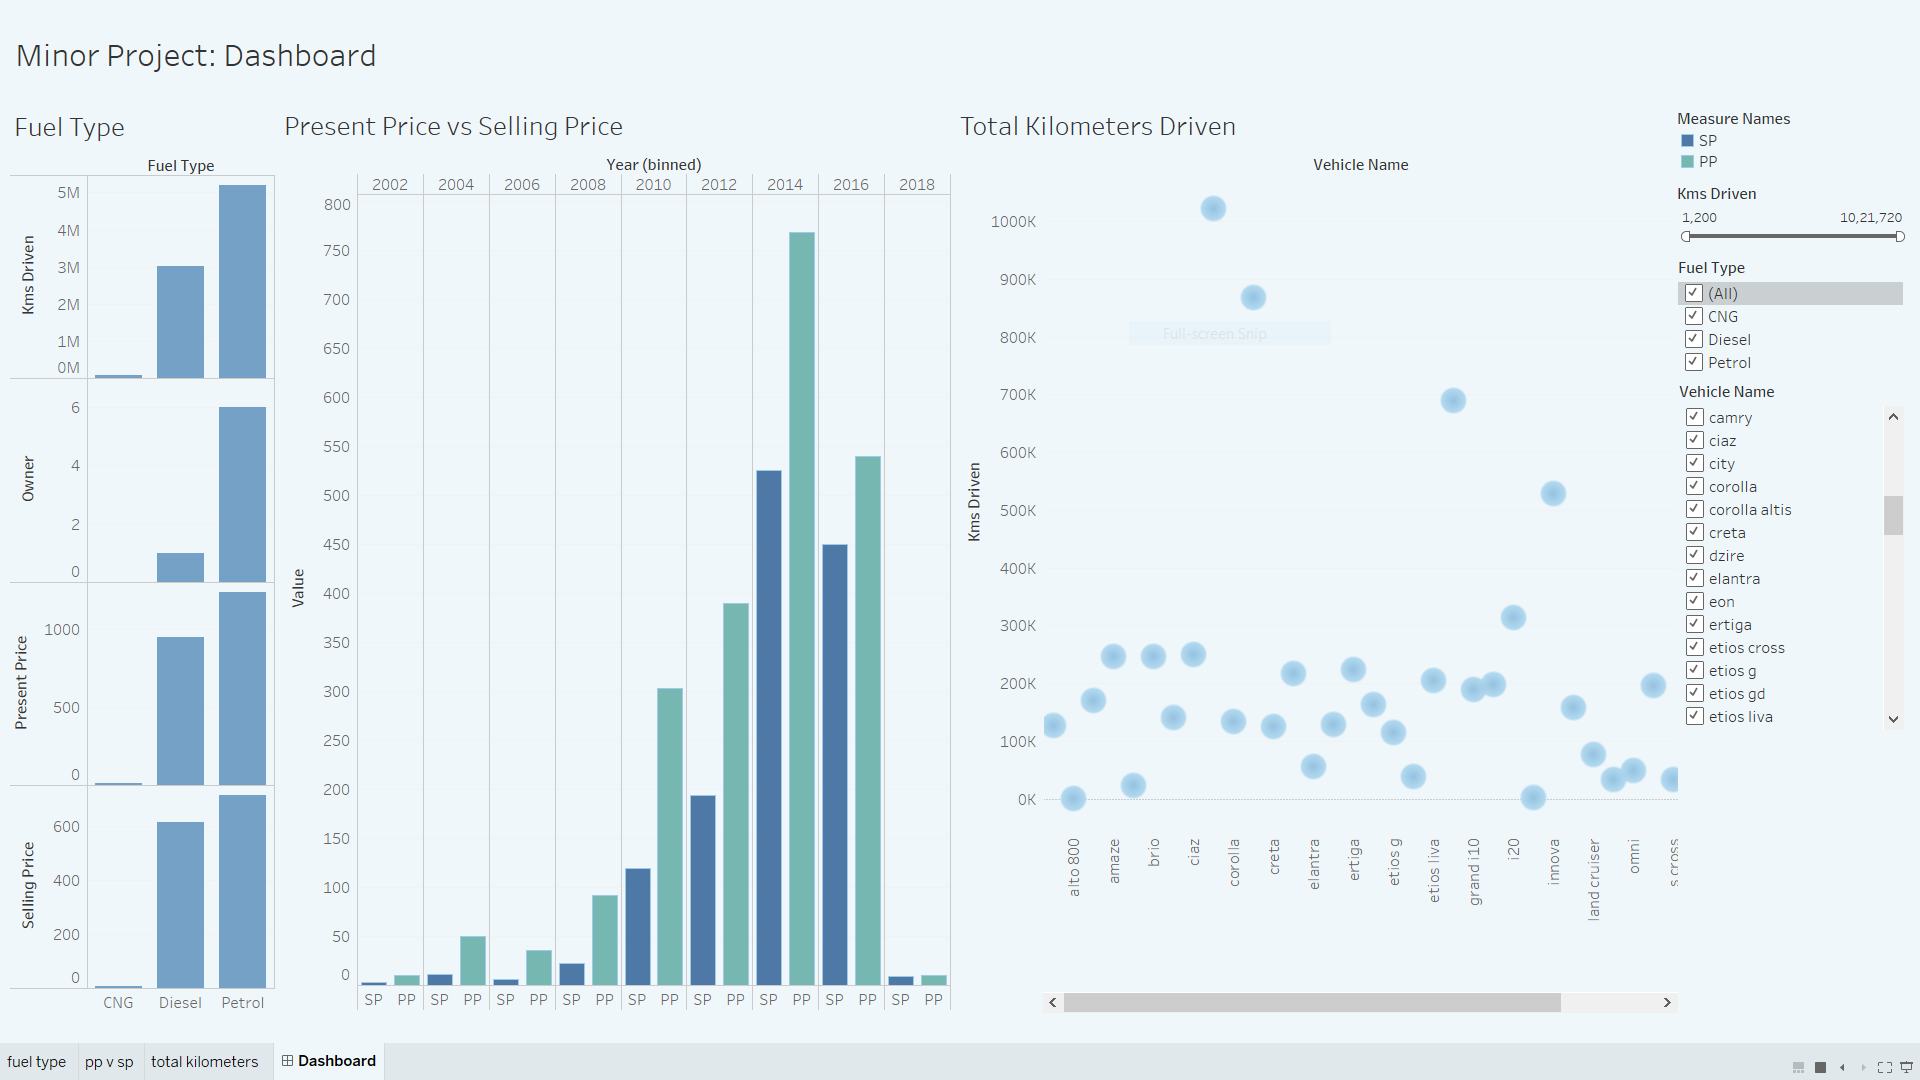

The dashboard page shown, as its layout file describes it:
{"tool":"tableau","page":{"name":"Dashboard","canvas":[1920,1000],"ordinal":0},"visuals":[{"type":"worksheet","box":[0,0,1920,1000]},{"type":"worksheet","param":"vert","box":[8,8,1904,984]},{"type":"worksheet","box":[8,8,1904,50]},{"type":"worksheet","param":"vert","box":[8,58,1904,934]},{"type":"worksheet","param":"vert","box":[8,58,1904,934]},{"type":"worksheet","param":"vert","box":[8,58,1904,934]},{"type":"worksheet","box":[8,58,1904,934]},{"type":"worksheet","title":"pp v sp","mark":"Automatic","cols":["Year (bin)"],"box":[280,83,671,907]},{"type":"worksheet","title":"total kilometers","mark":"Heatmap","rows":["Kms_Driven"],"cols":["Car_Name"],"box":[956,83,722,909]},{"type":"worksheet","title":"fuel type","mark":"Automatic","rows":["Kms_Driven","Owner","Present_Price","Selling_Price"],"cols":["Fuel_Type"],"box":[10,84,265,909]},{"type":"worksheet","title":"pp v sp","mark":"Automatic","cols":["Year (bin)"],"param":"[federated.13vy0p30n86bmw1bizbo31ut4f64].[:Measure Names]","box":[1677,87,120,64]},{"type":"worksheet","title":"total kilometers","mark":"Heatmap","rows":["Kms_Driven"],"cols":["Car_Name"],"param":"[federated.13vy0p30n86bmw1bizbo31ut4f64].[sum:Kms_Driven:qk]","box":[1677,162,232,65]},{"type":"worksheet","title":"fuel type","mark":"Automatic","rows":["Kms_Driven","Owner","Present_Price","Selling_Price"],"cols":["Fuel_Type"],"param":"[federated.13vy0p30n86bmw1bizbo31ut4f64].[none:Fuel_Type:nk]","box":[1678,236,225,123]},{"type":"worksheet","title":"total kilometers","mark":"Heatmap","rows":["Kms_Driven"],"cols":["Car_Name"],"param":"[federated.13vy0p30n86bmw1bizbo31ut4f64].[none:Car_Name:nk]","box":[1679,360,225,349]}]}

Visuals, with their boxes on the page's 1920x1000 design canvas (x1, y1, x2, y2). These are canvas units, not pixel positions in the 1920x1080 screenshot, which may show the page scaled, cropped or inside an application window:
worksheet: BBox(0, 0, 1920, 1000)
worksheet: BBox(8, 8, 1912, 992)
worksheet: BBox(8, 8, 1912, 58)
worksheet: BBox(8, 58, 1912, 992)
worksheet: BBox(8, 58, 1912, 992)
worksheet: BBox(8, 58, 1912, 992)
worksheet: BBox(8, 58, 1912, 992)
"pp v sp" worksheet: BBox(280, 83, 951, 990)
"total kilometers" worksheet (Heatmap marks): BBox(956, 83, 1678, 992)
"fuel type" worksheet: BBox(10, 84, 275, 993)
"pp v sp" worksheet: BBox(1677, 87, 1797, 151)
"total kilometers" worksheet (Heatmap marks): BBox(1677, 162, 1909, 227)
"fuel type" worksheet: BBox(1678, 236, 1903, 359)
"total kilometers" worksheet (Heatmap marks): BBox(1679, 360, 1904, 709)
